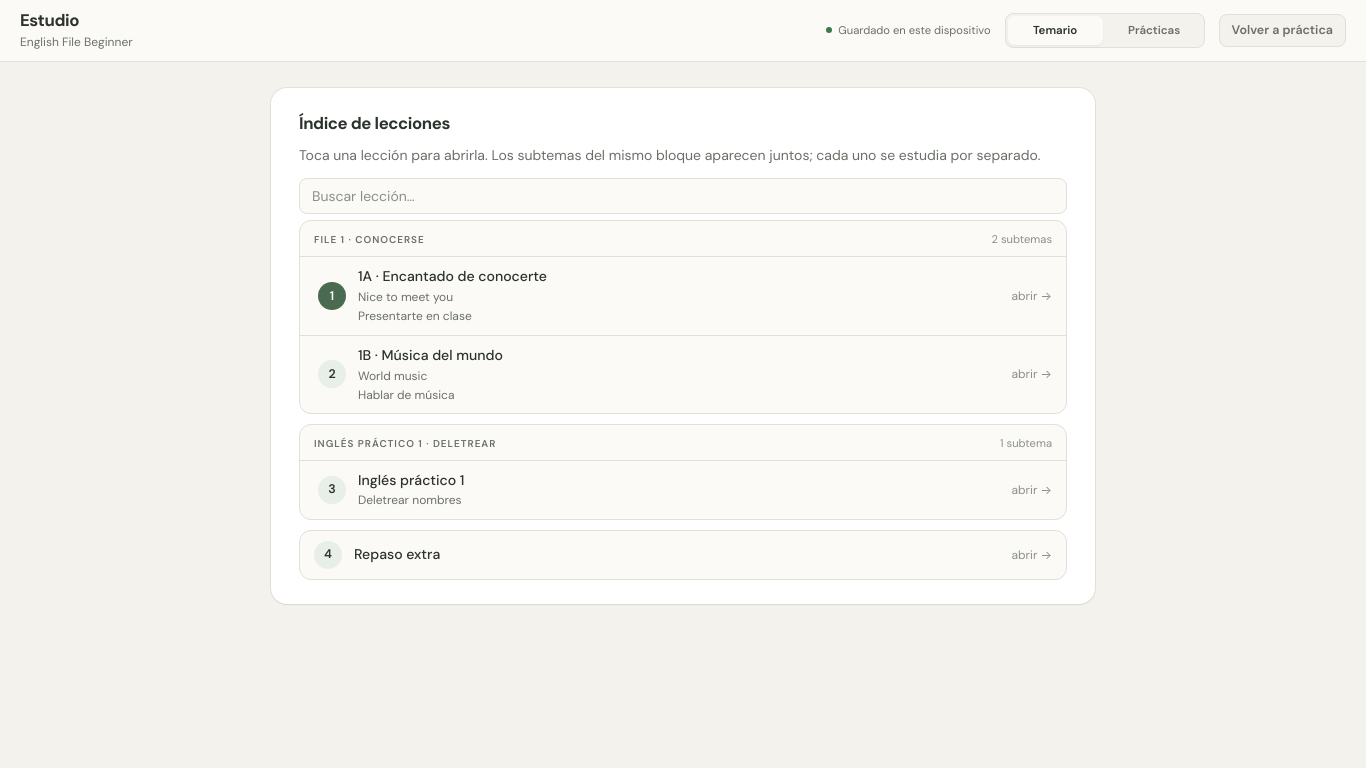
Test case: StudyScreen › renders the lesson progress bar in the lesson nav
Click the button with class "indice-fila" that starts with "1A · Encantado de conocerte" at (356, 305), box [300,256,1066,335]
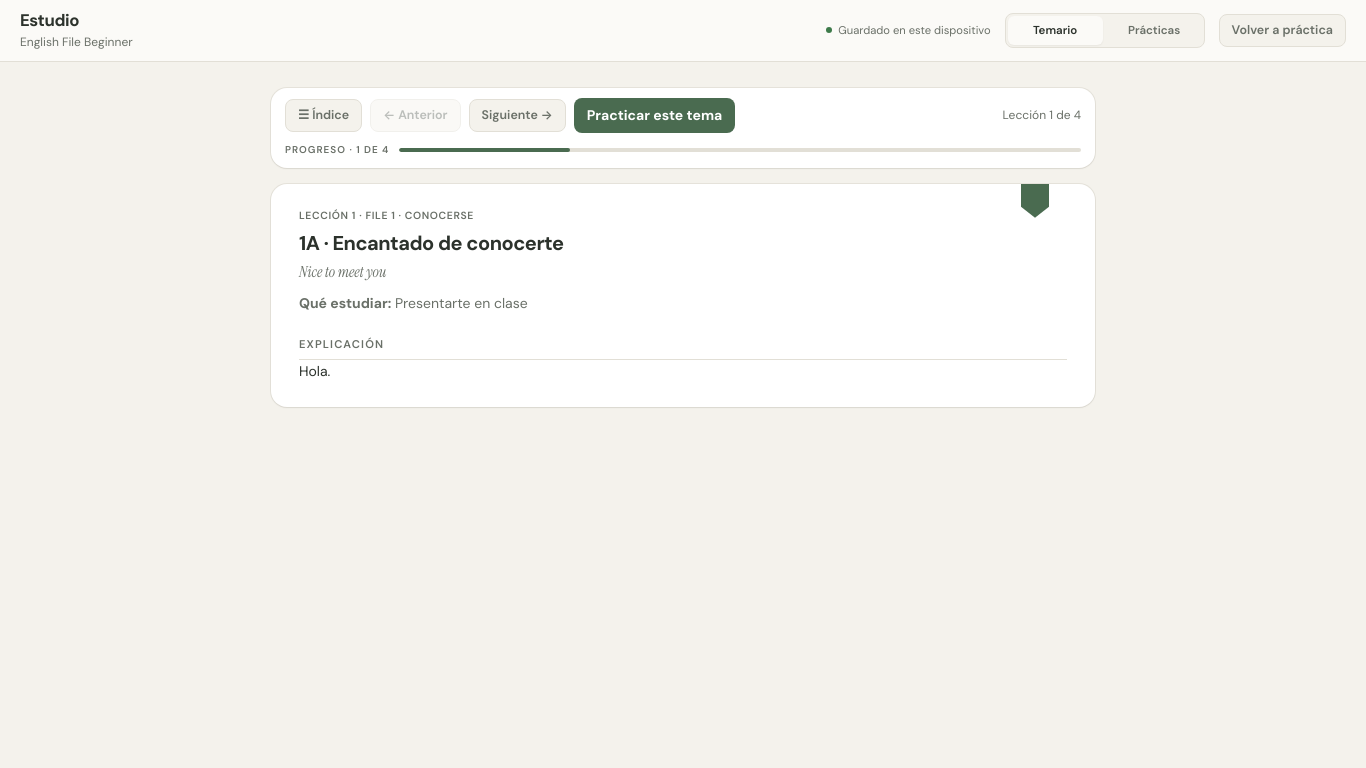
expect the element with class "lec-progress" shows "Progreso": met, box [285,143,346,156]
